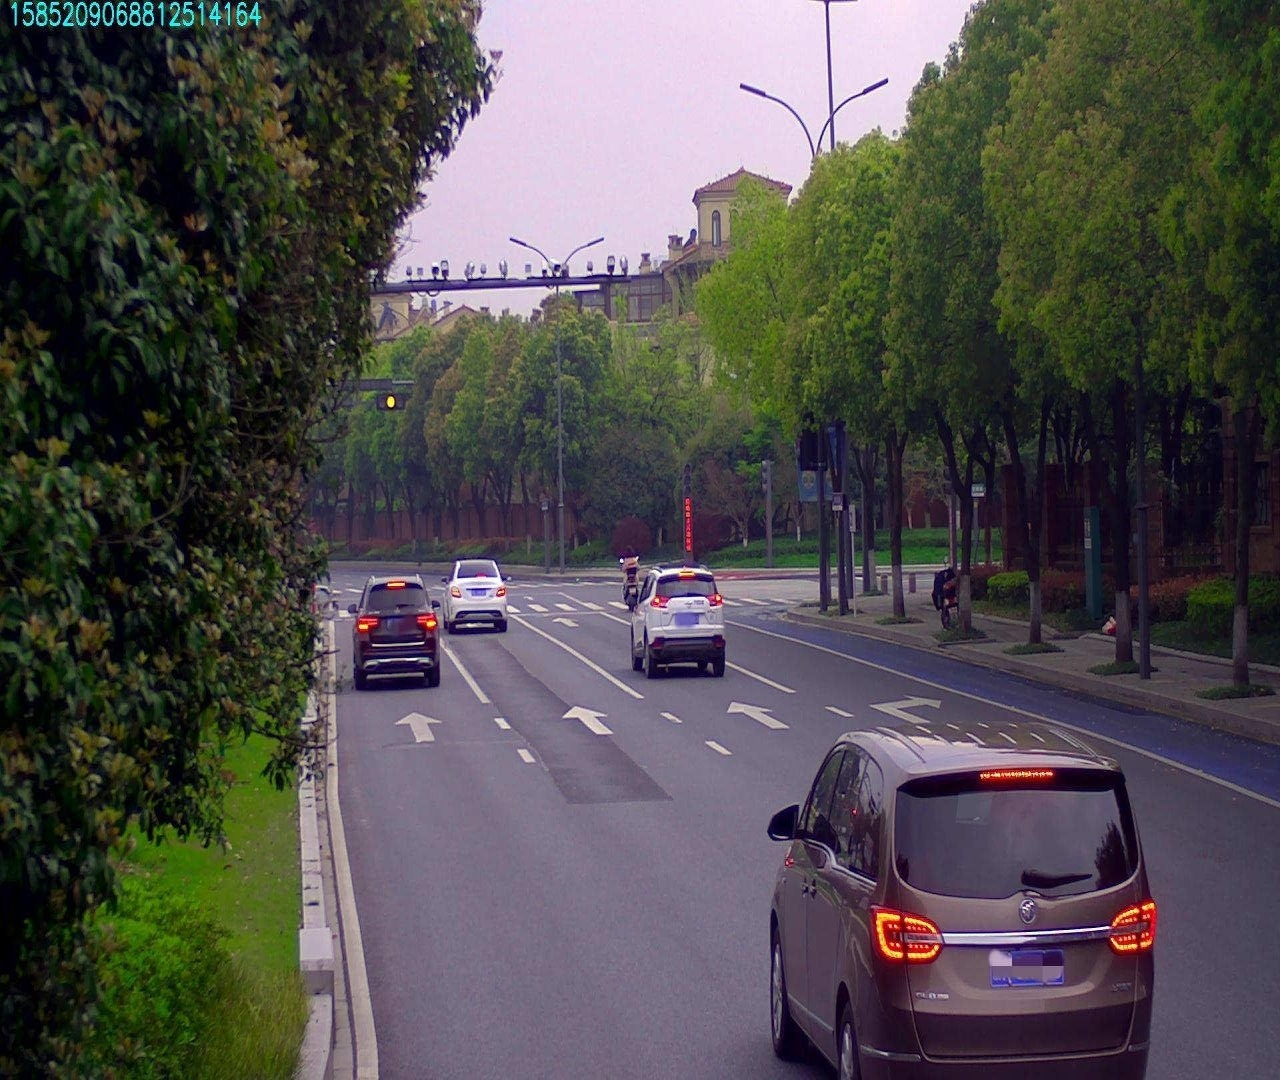yellow: (373, 395, 406, 408)
